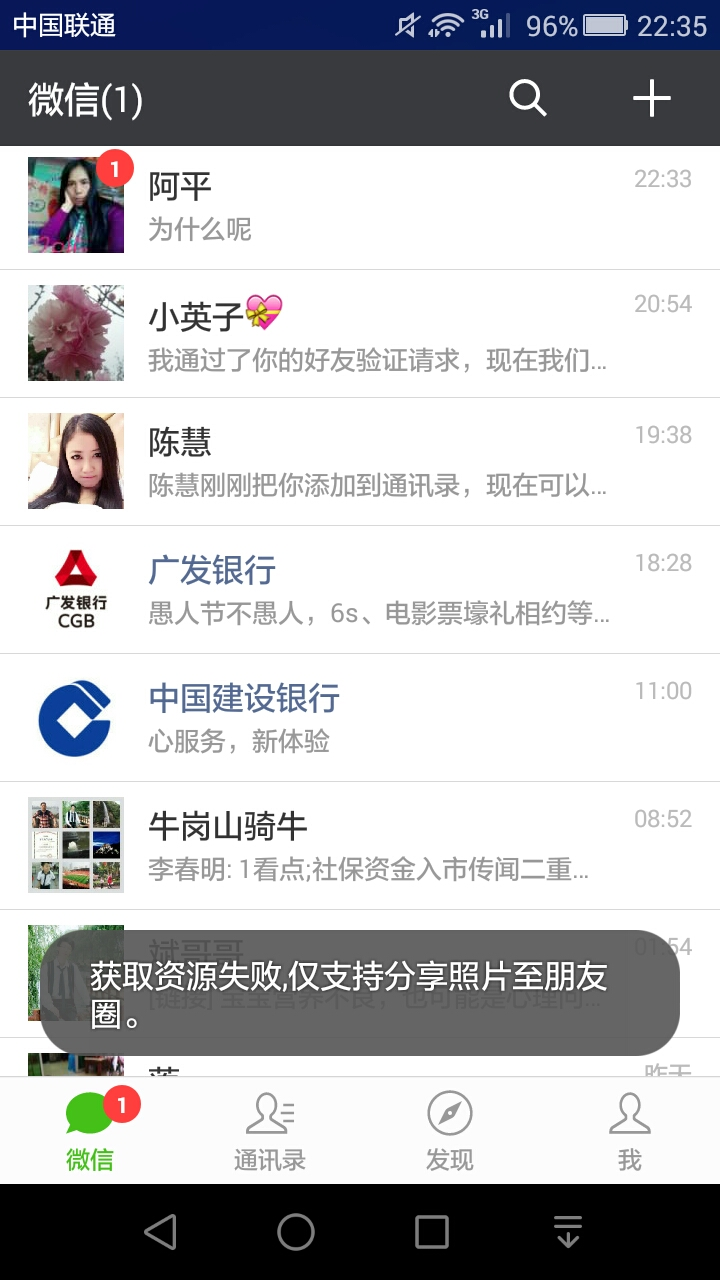alert: (40, 925, 682, 1063)
imgbutton: (490, 67, 574, 130), (601, 75, 689, 129)
nav: (2, 1076, 720, 1179)
textview: (1, 267, 718, 792)
